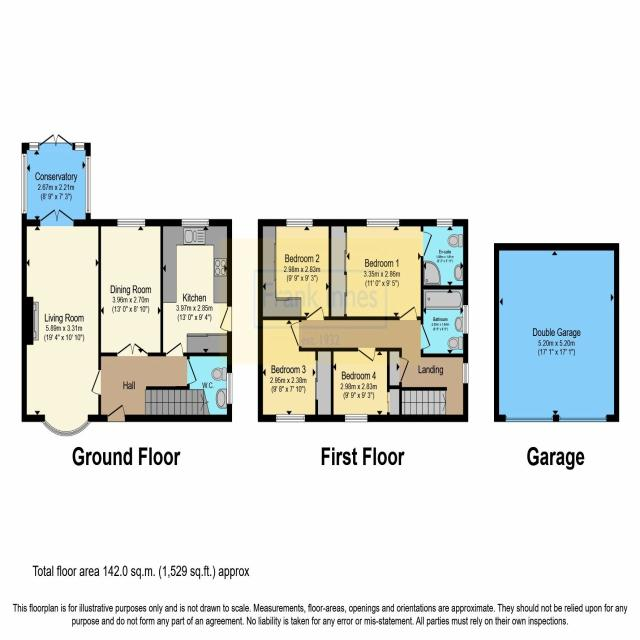DOOR: (116, 342, 149, 356), (107, 403, 126, 422), (420, 230, 433, 257), (219, 305, 232, 332), (290, 321, 302, 347), (306, 305, 325, 321), (399, 305, 418, 321), (357, 347, 376, 363), (165, 341, 184, 357), (187, 358, 198, 385), (90, 369, 101, 396), (421, 324, 431, 350)
DOUBLE DOOR: (40, 208, 74, 227)
ROOM: (21, 208, 101, 437), (328, 219, 433, 321), (160, 219, 232, 357), (98, 219, 163, 357), (258, 316, 334, 422), (257, 219, 332, 321), (331, 347, 402, 422)
WINDOW: (41, 419, 91, 437), (366, 218, 400, 228), (275, 413, 306, 423), (285, 218, 314, 228), (117, 218, 146, 228), (181, 218, 209, 227), (226, 372, 233, 405), (462, 304, 469, 335), (344, 414, 368, 423), (436, 218, 453, 228), (462, 363, 469, 384)
